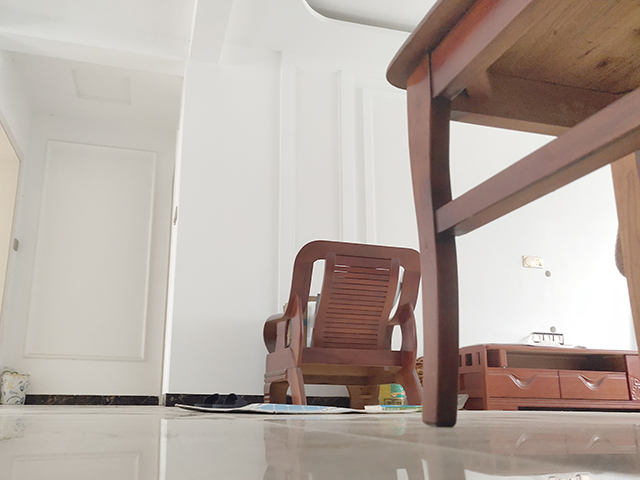book: (363, 402, 422, 415)
cabinet: (456, 342, 640, 413)
carpet: (172, 401, 424, 416)
slippers: (191, 392, 256, 411)
sofa: (261, 238, 423, 407)
stool: (384, 1, 640, 430)
trashcan: (1, 369, 33, 408)
